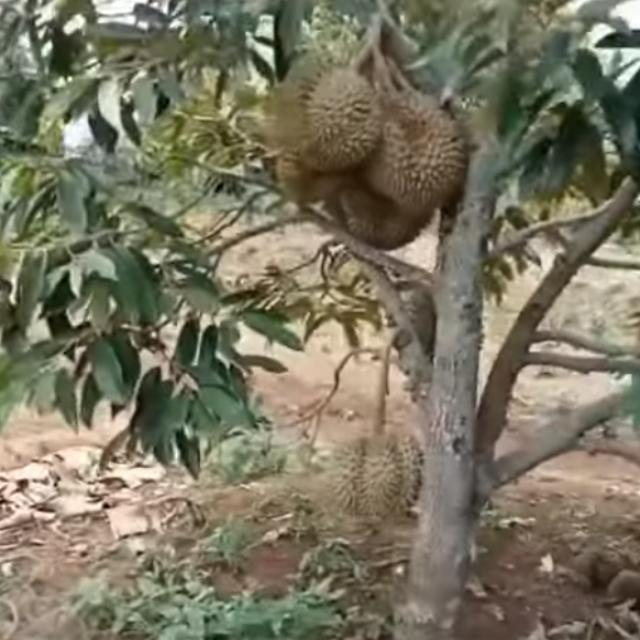mature: (366, 98, 470, 220), (291, 68, 386, 180), (326, 427, 425, 525)
